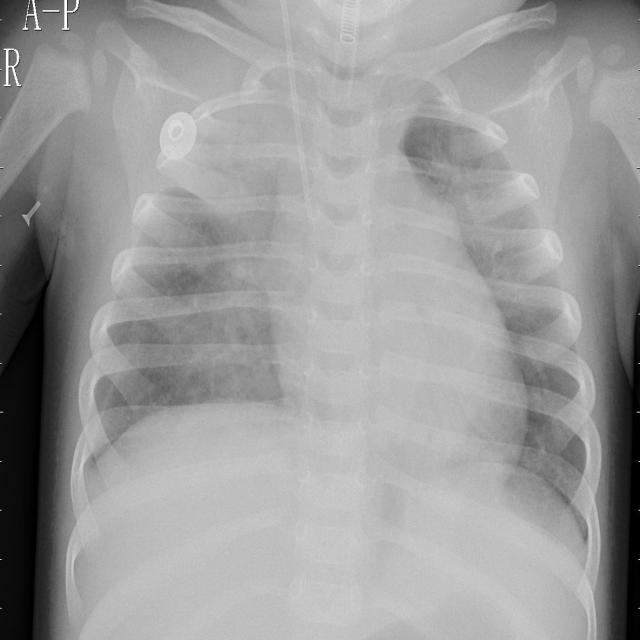high-pneumonia: (173, 98, 299, 252), (444, 149, 558, 319)
low-pneumonia: (190, 270, 274, 393)
